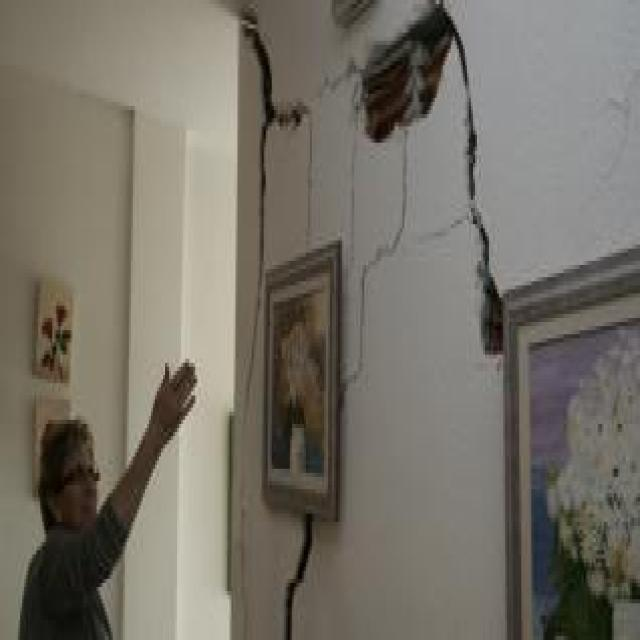crack: (240, 20, 308, 288), (358, 5, 467, 142), (465, 101, 507, 357), (282, 515, 316, 636)
